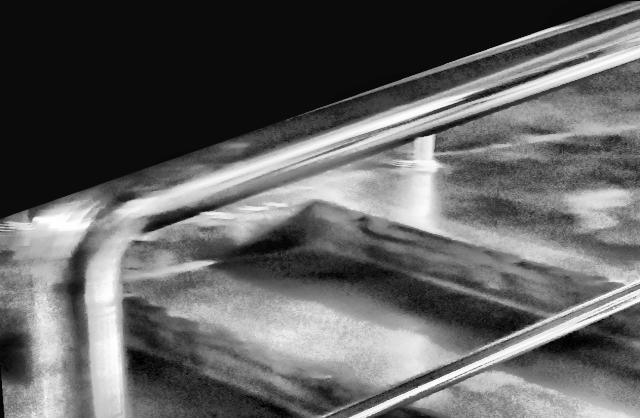obstacle: (0, 1, 640, 418)
